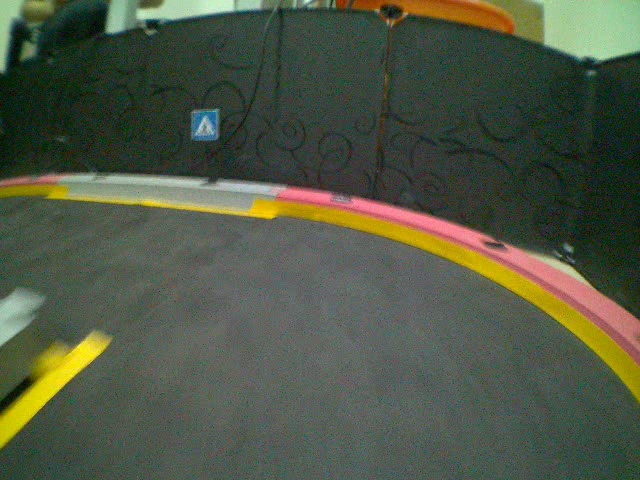crossing: (189, 109, 222, 144)
